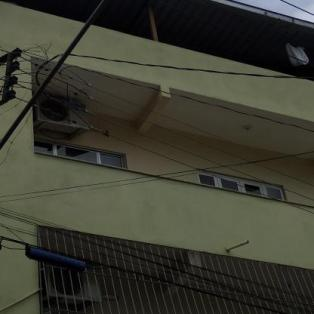Poste: (0, 0, 9, 314)
